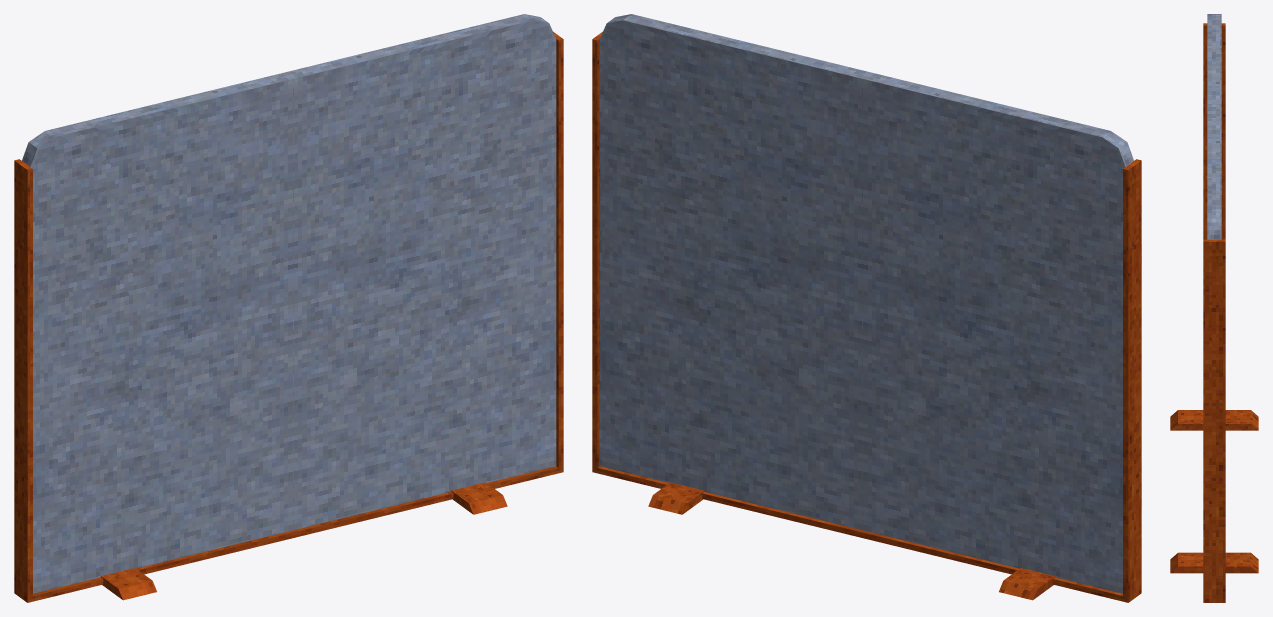
Rendered from divider_veneer_blue.glb.
The picture shows the model from 3 angles, left to right: view 1: azimuth 30°, elevation 25°; view 2: azimuth 150°, elevation 25°; view 3: azimuth 270°, elevation 25°; orthographic projection. The views are drawn at different scales.
Visible parts, largest first — view 1: divider_veneer_blue; view 2: divider_veneer_blue; view 3: divider_veneer_blue.
Part boxes in pixels (bbox=[...]): divider_veneer_blue: bbox=[14, 14, 563, 602]; divider_veneer_blue: bbox=[592, 14, 1141, 602]; divider_veneer_blue: bbox=[1170, 14, 1258, 602].
Bounding box in the file's own units: 3.06 × 2.5 × 0.523.
Materials: 1 (1 with a texture image).
